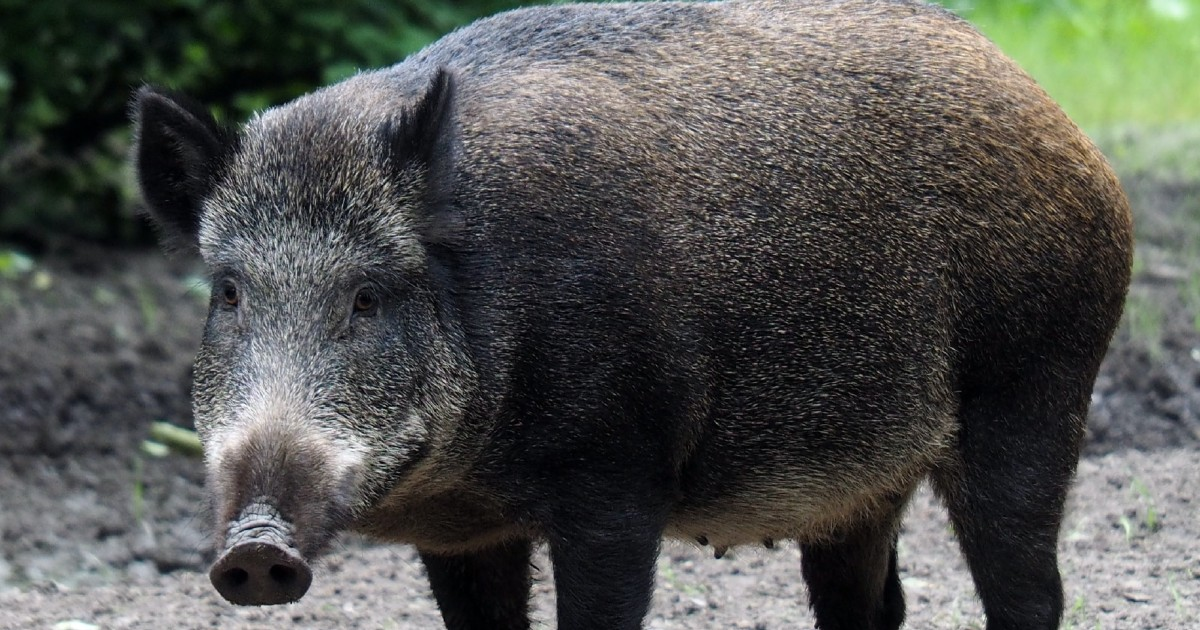boar: (128, 1, 1142, 624)
